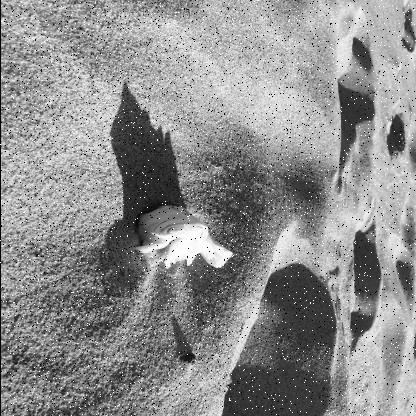other: (132, 205, 233, 269)
